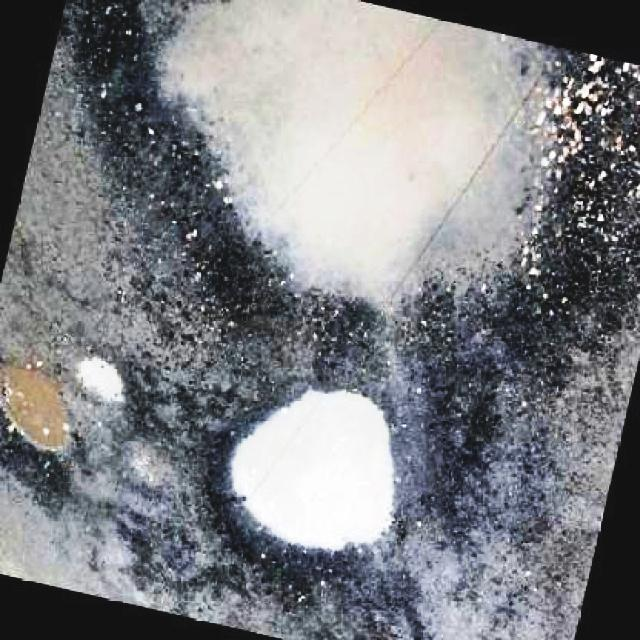pothole: (56, 0, 626, 403), (203, 383, 469, 599), (0, 328, 165, 500)
